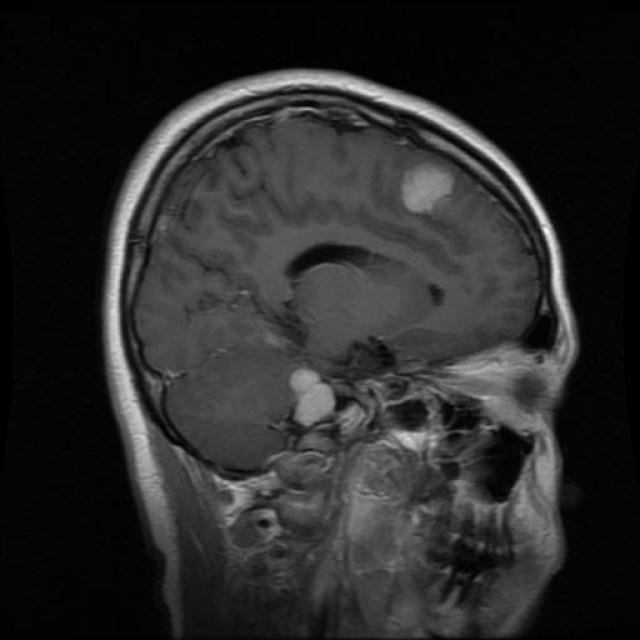meningioma: (402, 162, 454, 215)
